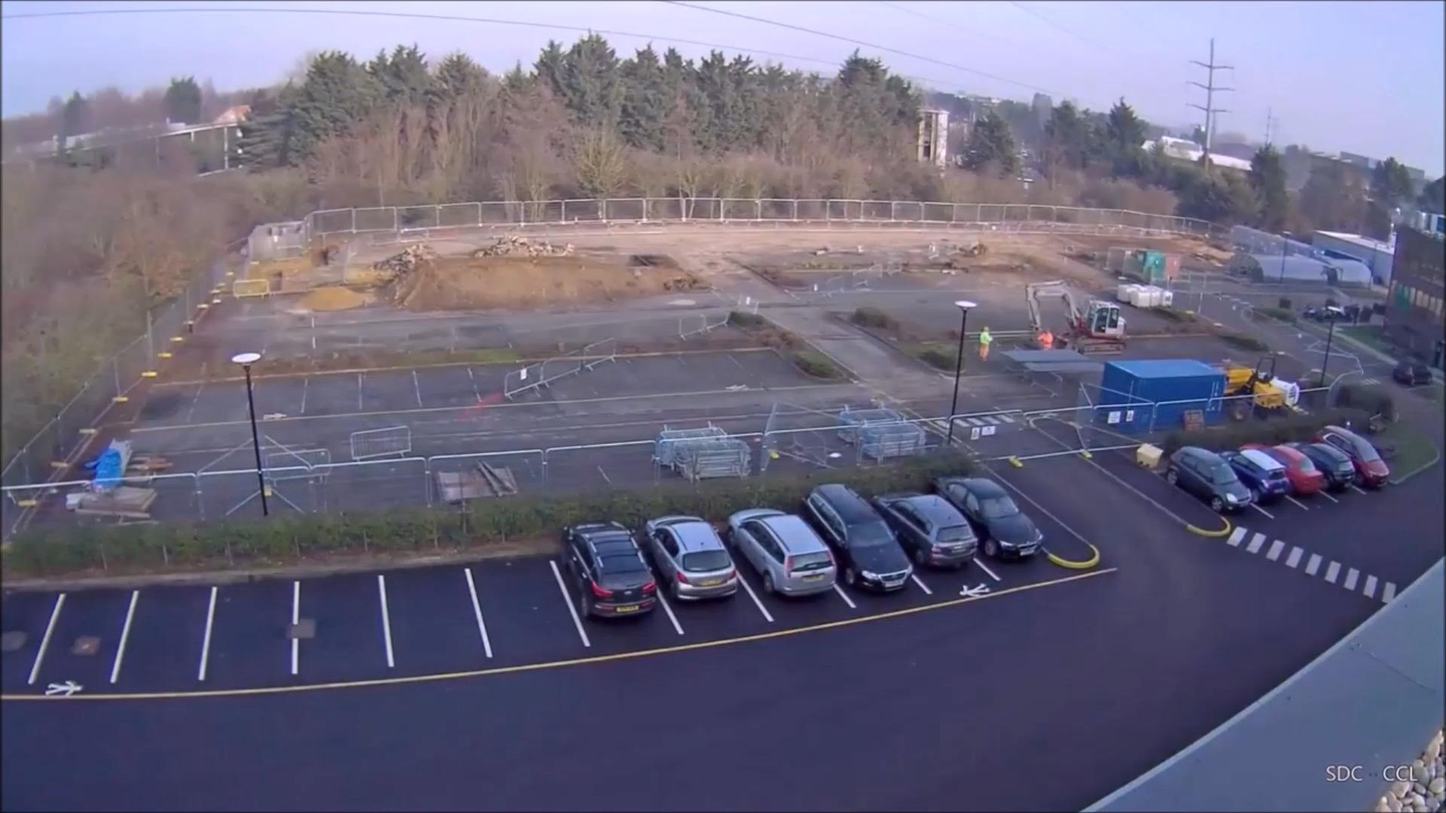free: (482, 560, 574, 654), (400, 567, 453, 660), (319, 581, 372, 674), (140, 596, 193, 688), (51, 587, 103, 680), (234, 585, 274, 678)
occupied: (596, 535, 645, 624), (665, 518, 714, 607), (746, 516, 795, 605), (831, 510, 880, 599), (913, 494, 962, 583), (1290, 427, 1339, 516), (1321, 430, 1370, 519), (971, 491, 1019, 580), (1167, 446, 1224, 513), (1245, 446, 1280, 496)
